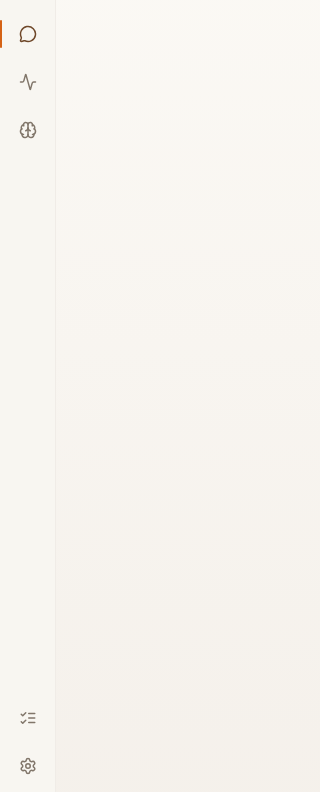
Test: sidebar navigation › renders conversation sessions without search controls
The image size is (320, 792).
Click the button named "shell.conversation" at (28, 34), box top-left (6, 12), bottom-right (50, 56)
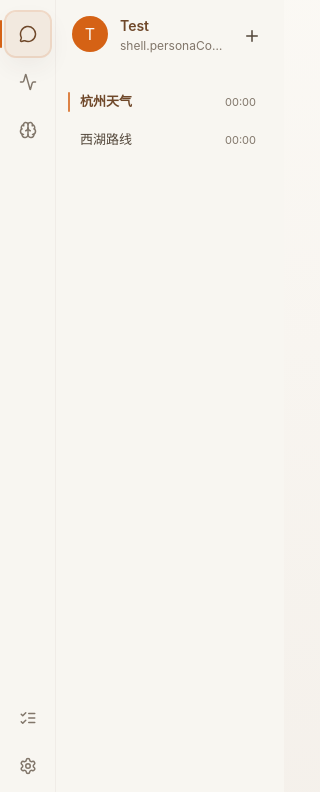
Expected: the button named "shell.newChat" is shown, top-left (236, 20), bottom-right (268, 52)
Expected: the button "杭州天气 00:00" is shown, top-left (68, 92), bottom-right (268, 112)
Expected: the button "西湖路线 00:00" is shown, top-left (68, 130), bottom-right (268, 150)
